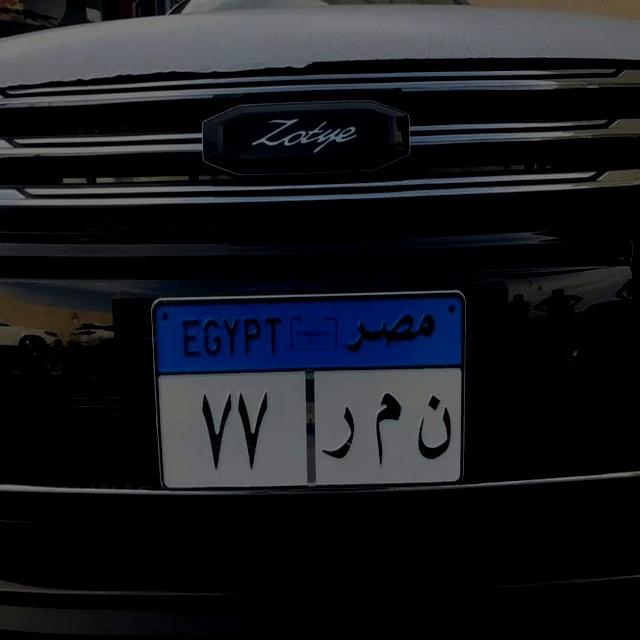License Plate: (149, 286, 469, 498)
